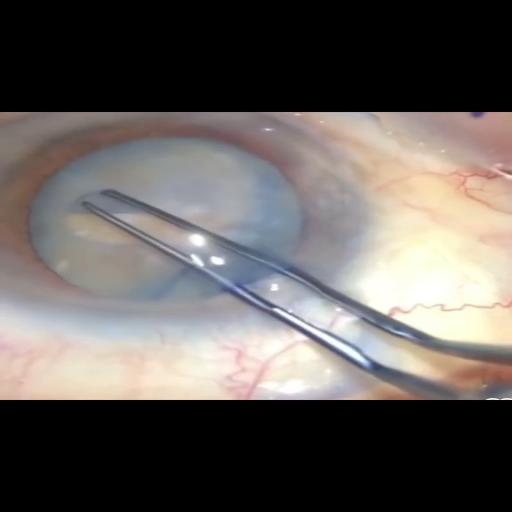catarata: (28, 134, 296, 298)
cornea: (0, 112, 370, 332)
pupil: (0, 116, 331, 318)
